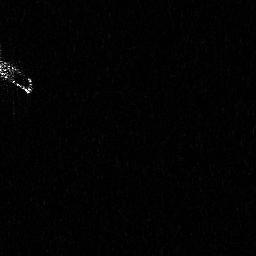ship: (1, 57, 33, 95)
